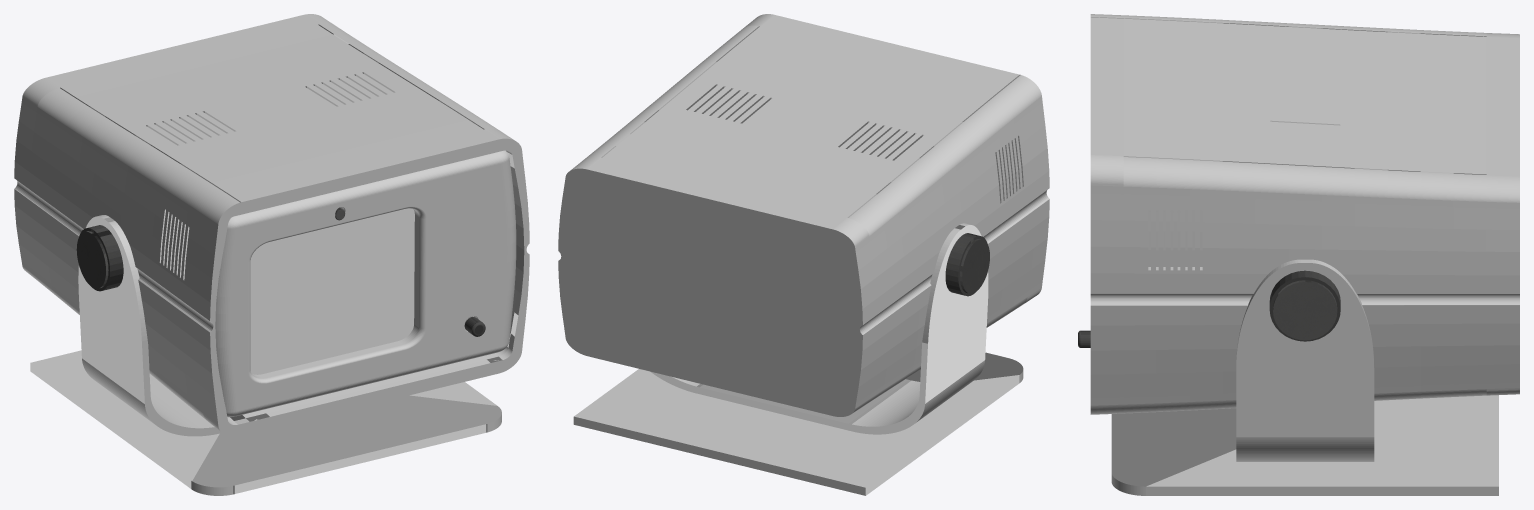
File: BlenderObject.gltf
The picture shows the model from 3 angles, left to right: view 1: azimuth 30°, elevation 25°; view 2: azimuth 150°, elevation 25°; view 3: azimuth 270°, elevation 25°; orthographic projection. The views are drawn at different scales.
Visible parts, largest first — view 1: Computer, Monitor; view 2: Computer; view 3: Computer.
Boxes of the visible parts, x1,y1,x2,y2 form: Computer: (14,14,529,495); Monitor: (250,208,414,374); Computer: (558,14,1049,495); Computer: (1078,14,1519,495).
Bounding box in the file's own units: 4.1 × 3.24 × 3.96.
